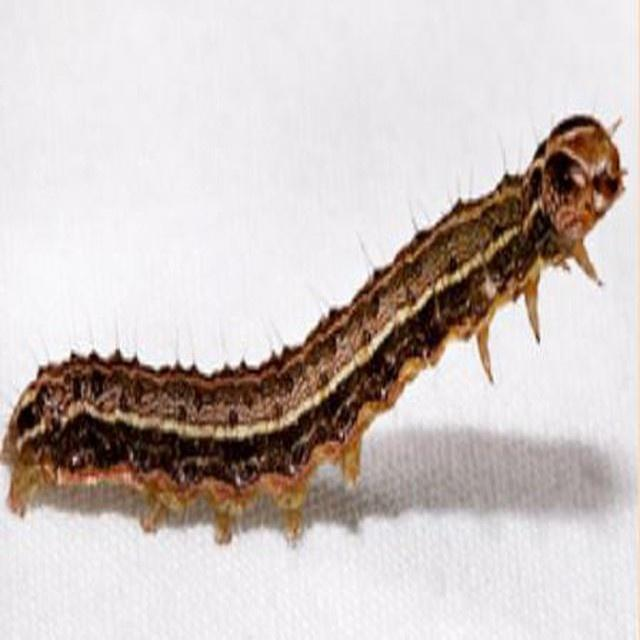Plaga: (1, 99, 621, 501)
